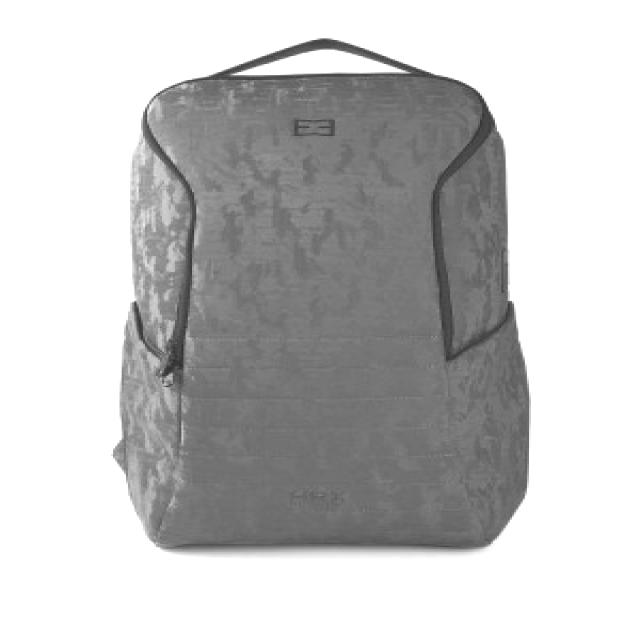backpack: (112, 38, 532, 550)
